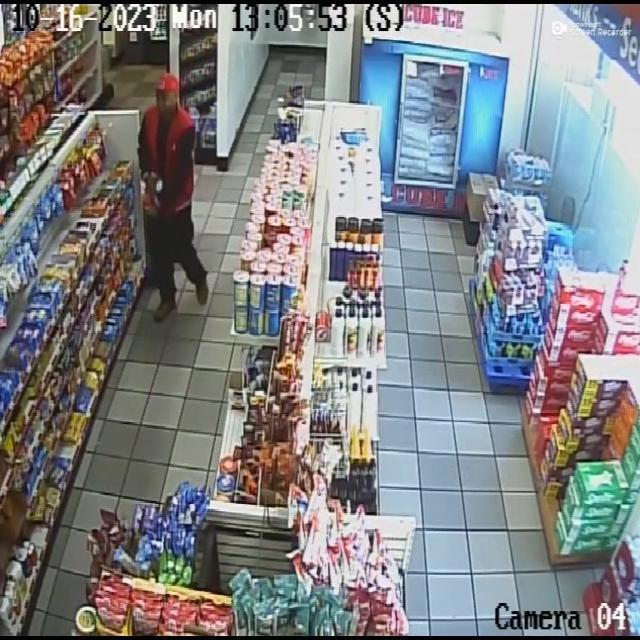normal: (137, 66, 212, 332)
